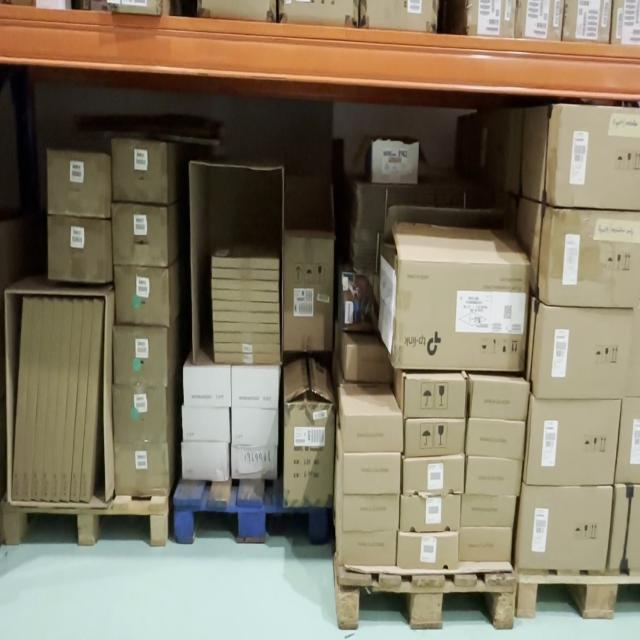box: (396, 257, 530, 373), (555, 105, 640, 209), (548, 210, 640, 306), (539, 307, 633, 400), (526, 397, 622, 486), (518, 486, 612, 570), (284, 403, 335, 508), (286, 238, 331, 350), (80, 299, 103, 502), (60, 300, 83, 502), (51, 300, 73, 502), (71, 300, 93, 501), (47, 149, 111, 216), (42, 299, 63, 502), (48, 216, 112, 282), (32, 299, 53, 500), (12, 299, 33, 499), (22, 300, 42, 499), (112, 139, 168, 203), (112, 203, 168, 266), (115, 266, 169, 327), (113, 327, 167, 384), (113, 385, 166, 442), (114, 442, 169, 496), (404, 378, 466, 419), (610, 487, 640, 570), (403, 456, 464, 495), (405, 418, 465, 457), (343, 454, 400, 495), (471, 379, 529, 419), (344, 414, 402, 453), (467, 420, 524, 459), (401, 495, 461, 532), (398, 532, 458, 569), (466, 457, 522, 496), (615, 398, 640, 485), (342, 495, 399, 532), (373, 138, 419, 183), (340, 531, 397, 566), (461, 494, 516, 529), (232, 368, 278, 409), (184, 366, 231, 406), (459, 530, 513, 563), (182, 406, 230, 442), (232, 407, 278, 444), (346, 345, 392, 382), (182, 443, 227, 480), (232, 445, 277, 480), (212, 257, 279, 269), (213, 301, 280, 313), (213, 311, 280, 323), (214, 332, 280, 344), (215, 352, 280, 364), (213, 322, 280, 333), (212, 268, 278, 278), (214, 343, 280, 353), (212, 280, 278, 289), (212, 291, 279, 299)
